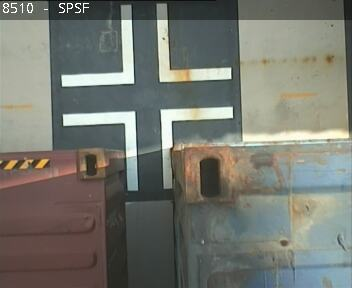groundmarker_1: (61, 3, 232, 88), (62, 105, 232, 190)
